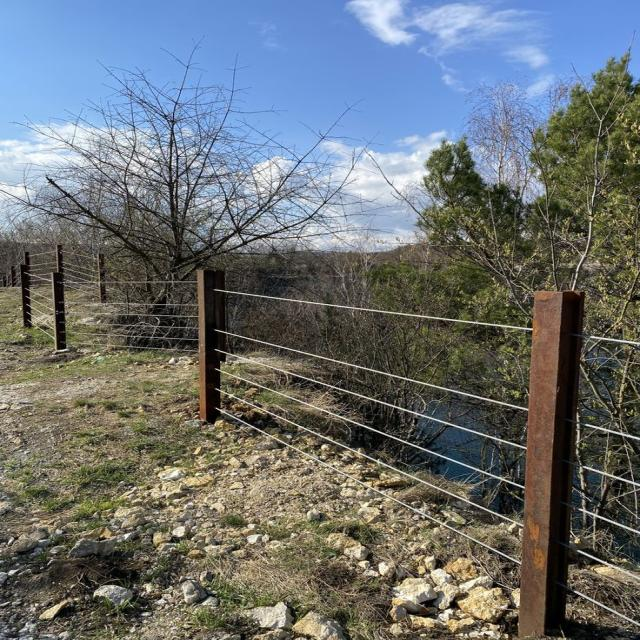fence: (14, 268, 639, 630)
